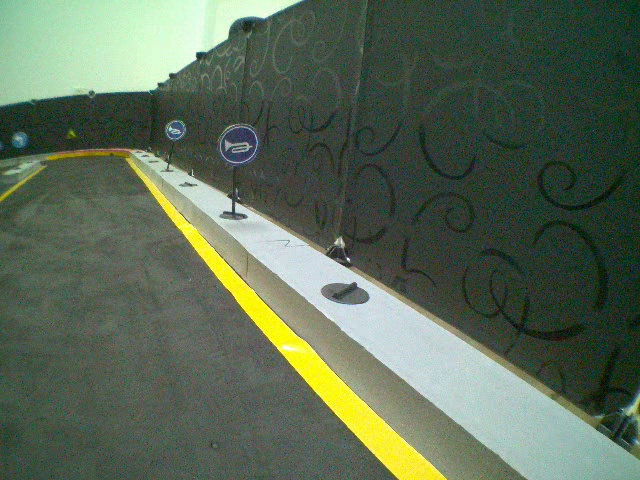horn: (216, 122, 261, 165), (164, 119, 186, 141)
